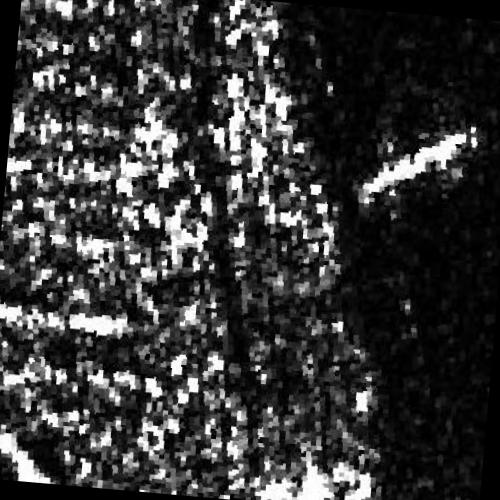ship: (356, 125, 480, 205)
